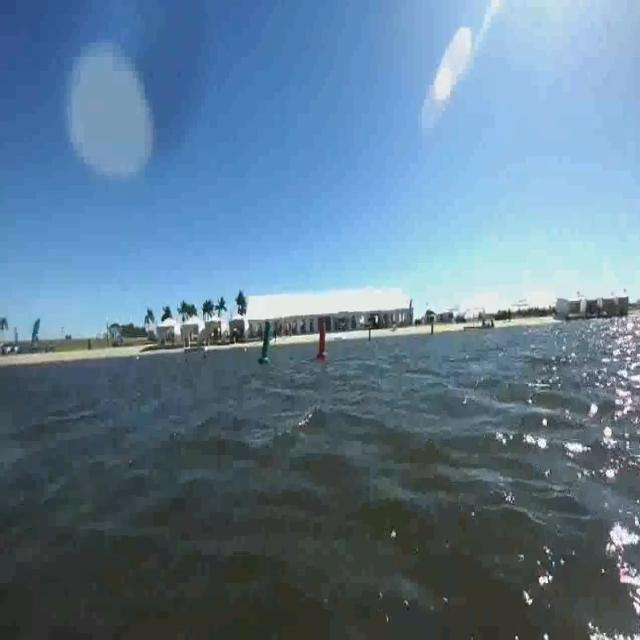green-column-buoy: (258, 314, 276, 372)
red-column-buoy: (313, 315, 334, 368)
